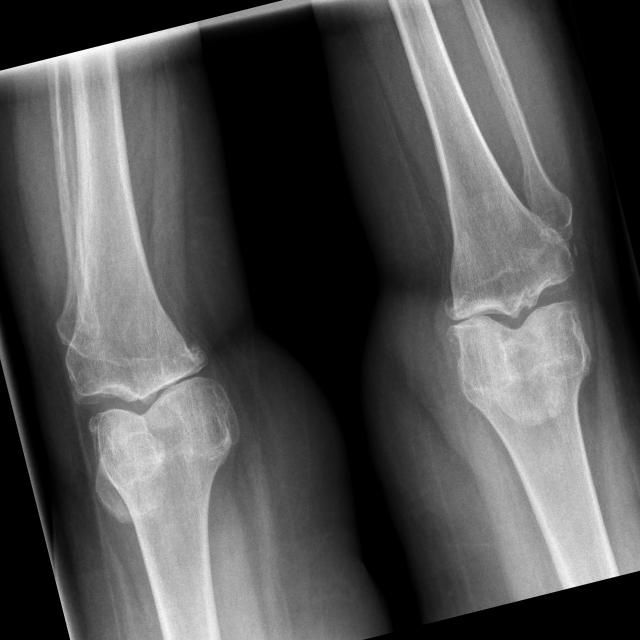Knee: (418, 202, 606, 424), (53, 296, 250, 503)
